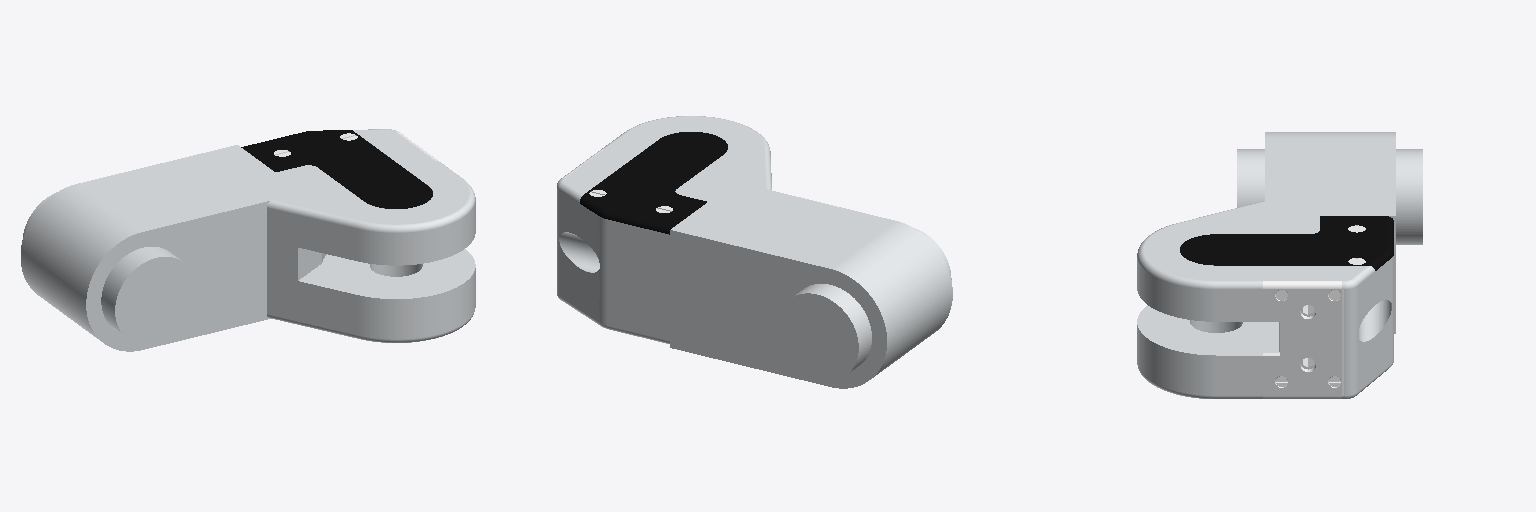
The model's file is finger_base.obj.
3 views of the same model, side by side, from view 1: azimuth 30°, elevation 25°; view 2: azimuth 150°, elevation 25°; view 3: azimuth 270°, elevation 25° (orthographic).
Visible parts, largest first — view 1: B4158; view 2: B4158; view 3: B4158.
Part boxes in pixels (left/top/right/bottom): B4158: left=21, top=129, right=475, bottom=351; B4158: left=557, top=116, right=952, bottom=388; B4158: left=1137, top=132, right=1422, bottom=398.
Bounding box in the file's own units: 0.0773 × 0.0246 × 0.0539.